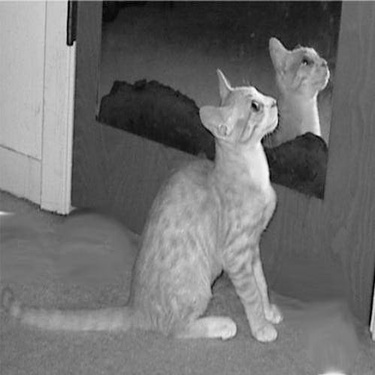cat: (9, 65, 284, 343)
